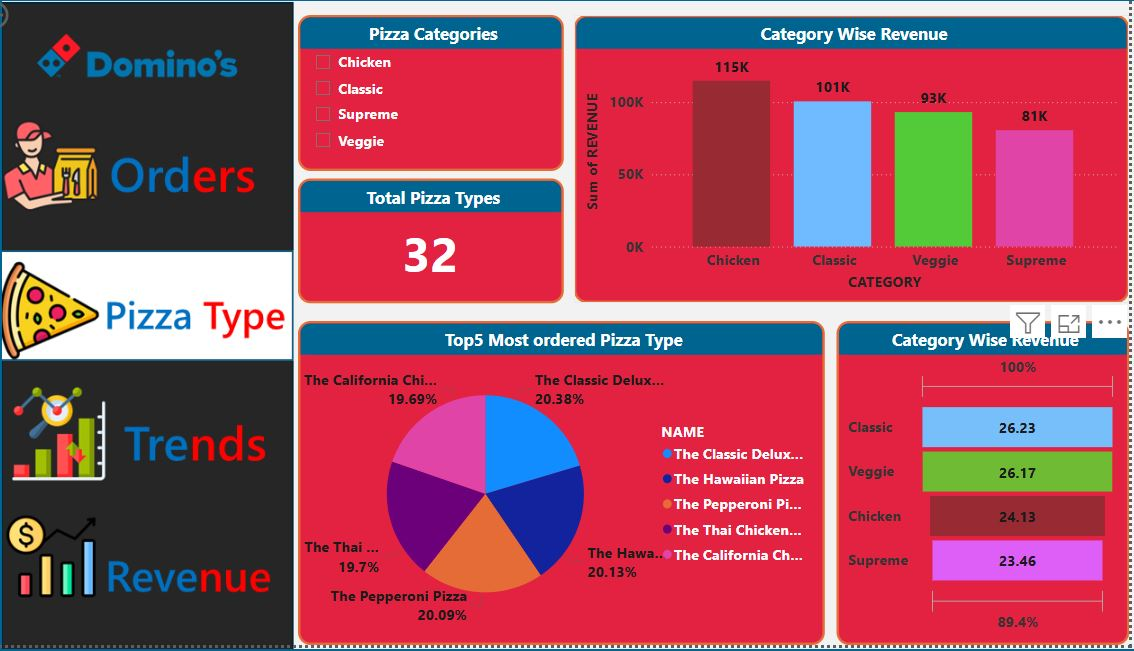

The dashboard page shown, as its layout file describes it:
{"tool":"powerbi","page":{"name":"Pizza Types","canvas":[1280,720],"ordinal":1},"visuals":[{"type":"funnel","title":"Category Wise Revenue","fields":{"Category":["sales pizzatye_revenue.CATEGORY"],"Y":["Sum(sales pizzatye_revenue.REVENUE_PERCENTAGE)"]},"box":[938.3,345,325,360],"z":0},{"type":"card","title":"Total Pizza Types","fields":{"Values":["Count(sales pizza_types.name)"]},"box":[345,193.3,295,138.3],"z":1000},{"type":"actionButton","box":[0,0,100,40],"z":2000},{"type":"slicer","title":" Pizza Categories ","fields":{"Values":["sales pizza_types.category"]},"box":[345,6.7,295,173.3],"z":3000},{"type":"pieChart","title":"Top5 Most ordered Pizza Type","fields":{"Category":["sales top5_ordered_pizza.NAME"],"Y":["Sum(sales top5_ordered_pizza.ORDERSUNIT)"]},"box":[345,345,585,360],"z":4000},{"type":"clusteredColumnChart","title":"Category Wise Revenue","fields":{"Category":["sales top3pizzas_basedon_revenue.CATEGORY"],"Y":["Sum(sales top3pizzas_basedon_revenue.REVENUE)"]},"box":[646.7,6.7,616.7,325],"z":5000},{"type":"actionButton","box":[26.7,135,330,116.7],"z":6000},{"type":"actionButton","box":[26.7,423.3,330,116.7],"z":7000},{"type":"actionButton","box":[26.7,140,330,111.7],"z":8000},{"type":"actionButton","box":[26.7,563.3,330,111.7],"z":9000}]}

Visuals, with their boxes in screenshot pixels (x1, y1, x2, y2), scaled from the page's 1280x720 canvas onto the 1134x651 screenshot:
"Category Wise Revenue" funnel: 831 312 1119 637
"Total Pizza Types" card: 306 175 567 300
actionButton: 0 0 89 36
" Pizza Categories " slicer: 306 6 567 163
"Top5 Most ordered Pizza Type" pieChart: 306 312 824 637
"Category Wise Revenue" clusteredColumnChart: 573 6 1119 300
actionButton: 24 122 316 228
actionButton: 24 383 316 488
actionButton: 24 127 316 228
actionButton: 24 509 316 610
